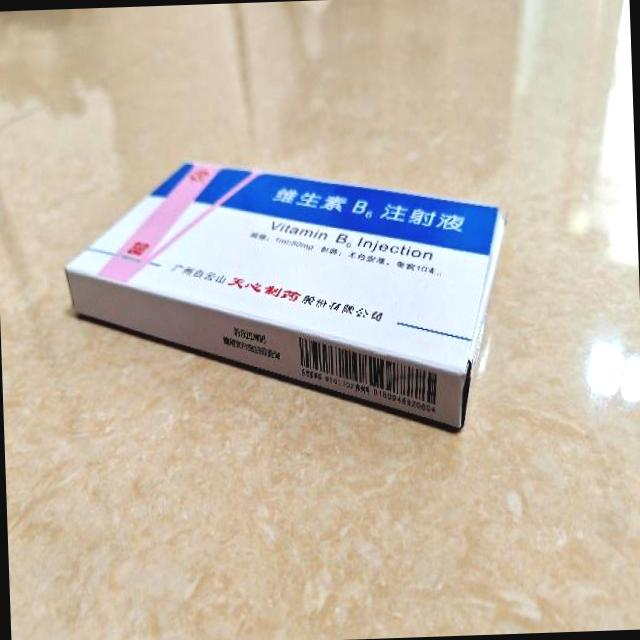box: (59, 148, 510, 442)
